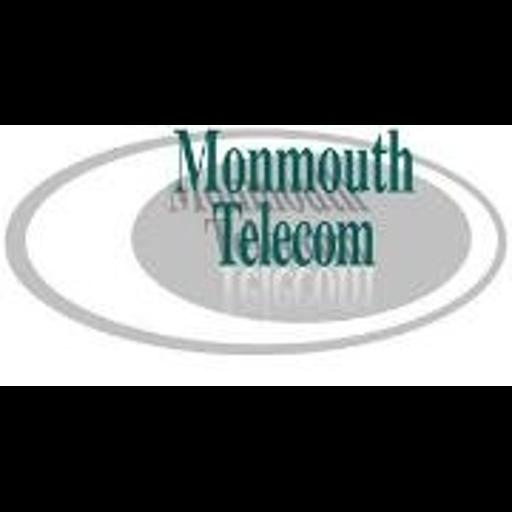Monmouth Telecom: (0, 125, 512, 386)
